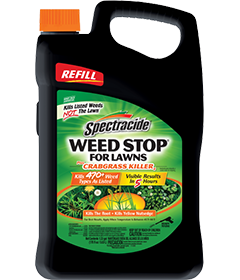crabgrass: (65, 182, 94, 216)
